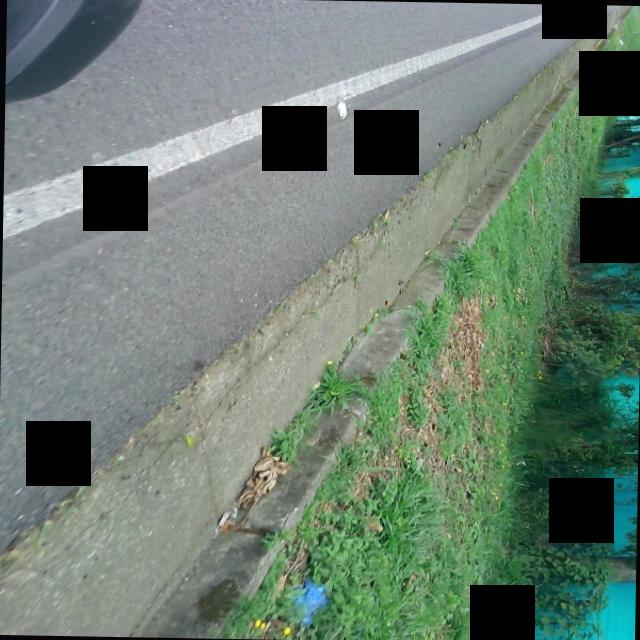DITCH: (0, 0, 632, 640), (0, 0, 602, 640), (0, 0, 594, 640)
